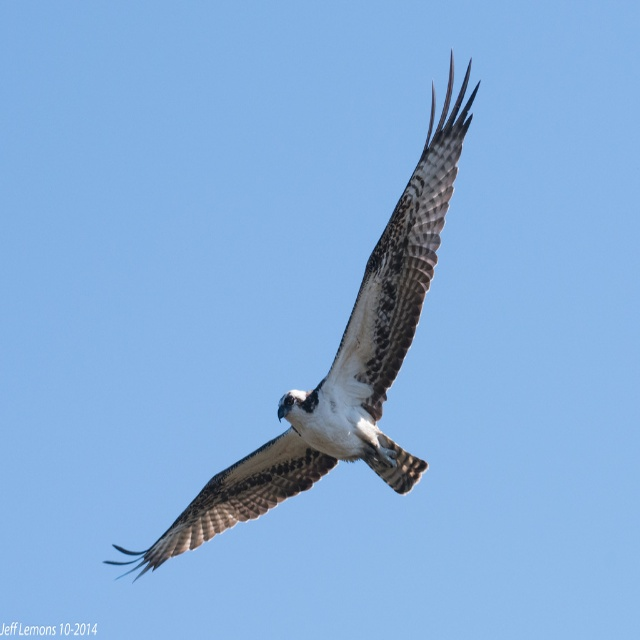Eagle: (103, 38, 487, 603)
